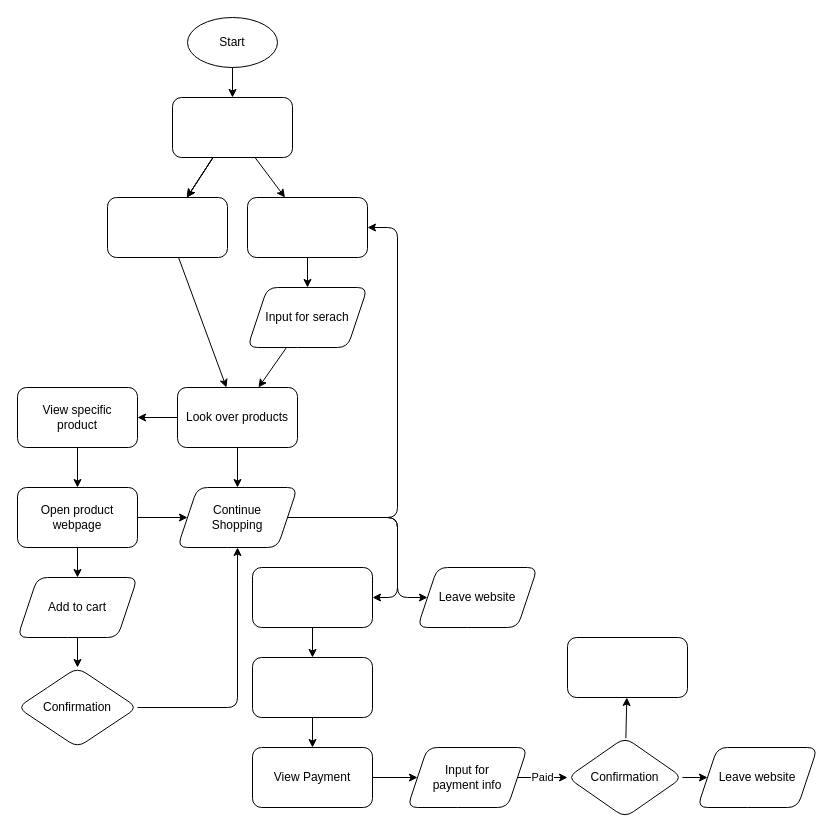
Image size: 835x835. Some labels were removed from this diagram. The box of each missing label's shape, as (x1, y1, x2, y2) in pixels:
Checkout: (252, 566, 372, 628)
Explore products on home screen: (106, 196, 228, 258)
Search for product: (246, 196, 368, 258)
Send email: (566, 636, 688, 698)
User enters website: (172, 96, 292, 158)
View Cart: (252, 656, 372, 718)
